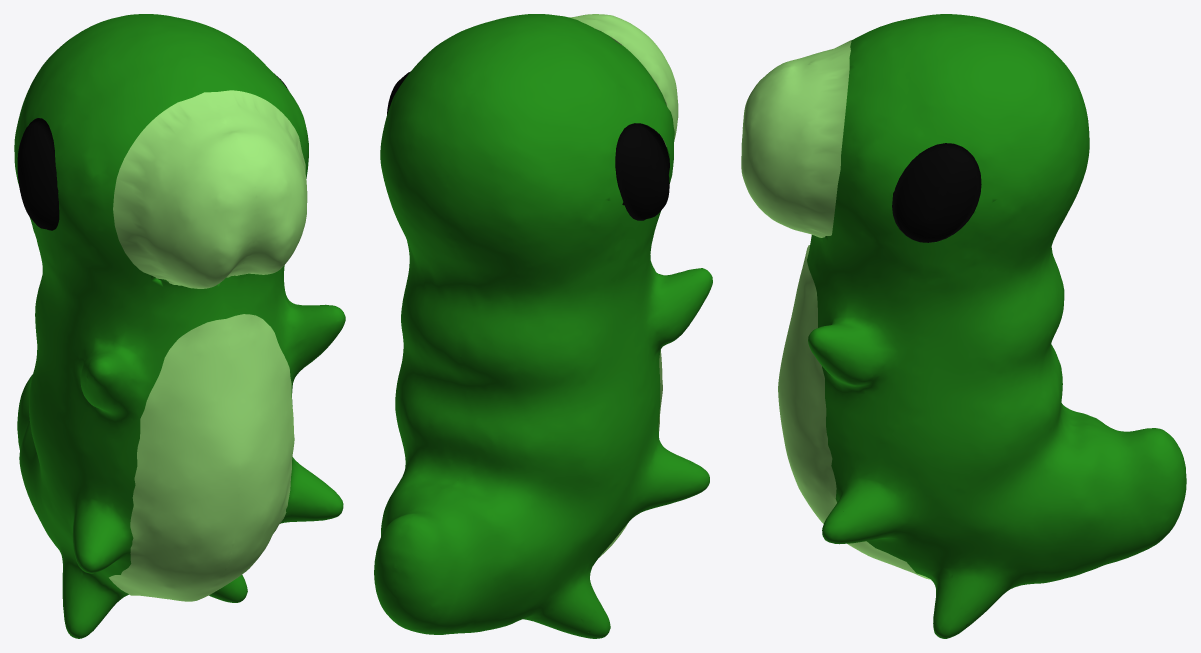
Rendered from Data-Worm.fbx.
3 renders of one model, left to right at view 1: azimuth 30°, elevation 25°; view 2: azimuth 150°, elevation 25°; view 3: azimuth 270°, elevation 25°, orthographic. The views are drawn at different scales.
Visible parts, largest first — view 1: Body, Belly, Nose, Eyes; view 2: Body, Eyes, Nose; view 3: Body, Nose, Belly, Eyes.
Part boxes in pixels (bbox=[...]): Body: bbox=[14, 14, 345, 638]; Belly: bbox=[109, 314, 294, 601]; Nose: bbox=[113, 90, 307, 288]; Eyes: bbox=[17, 73, 288, 230]; Body: bbox=[374, 14, 712, 638]; Eyes: bbox=[387, 71, 669, 220]; Nose: bbox=[569, 14, 678, 146]; Body: bbox=[807, 14, 1186, 638]; Nose: bbox=[741, 40, 851, 237]; Belly: bbox=[778, 245, 930, 579]; Eyes: bbox=[892, 143, 981, 242].
Bounding box in the file's own units: 41.75 × 60.3 × 85.81.
